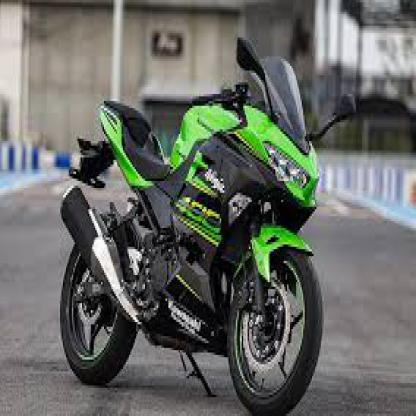Motorcycle: (43, 31, 355, 414)
